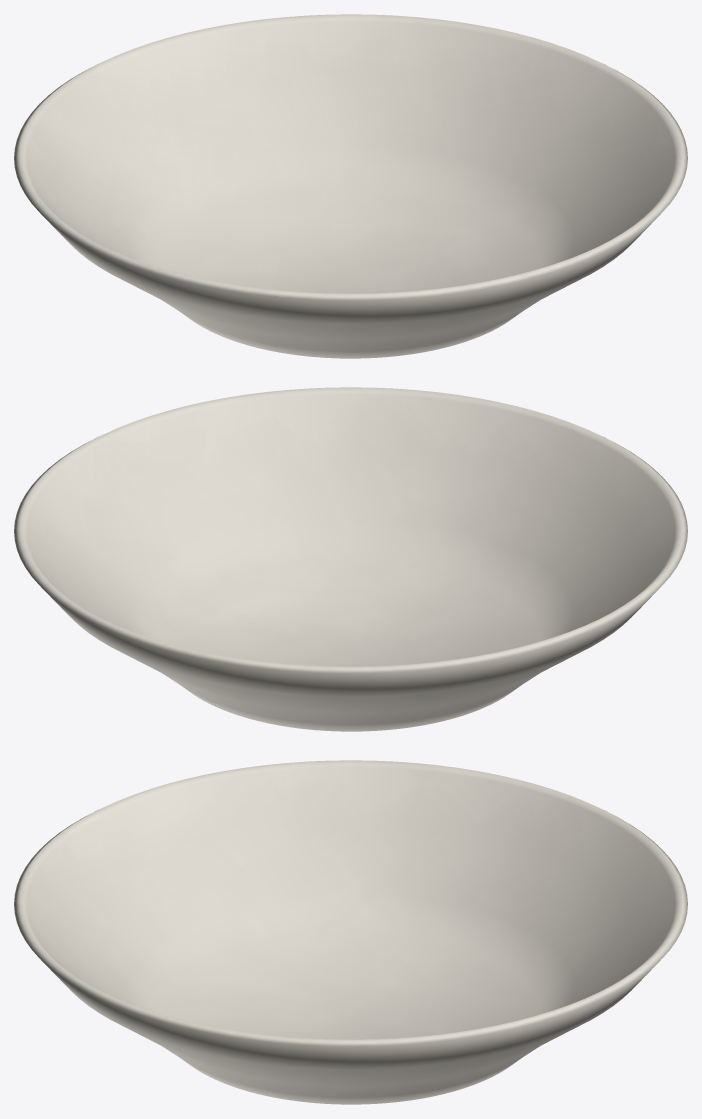
File: pasta-deep.glb
3 renders of one model, top to bottom at view 1: azimuth 30°, elevation 25°; view 2: azimuth 150°, elevation 25°; view 3: azimuth 270°, elevation 25°, orthographic.
Visible parts, largest first — view 1: ceramic_primary; view 2: ceramic_primary; view 3: ceramic_primary.
Boxes of the visible parts, <box> form: ceramic_primary: <box>14,14,687,358</box>; ceramic_primary: <box>14,387,687,731</box>; ceramic_primary: <box>14,760,687,1104</box>.
Bounding box in the file's own units: 0.26 × 0.0538 × 0.26.
1 material, 1 textured.
